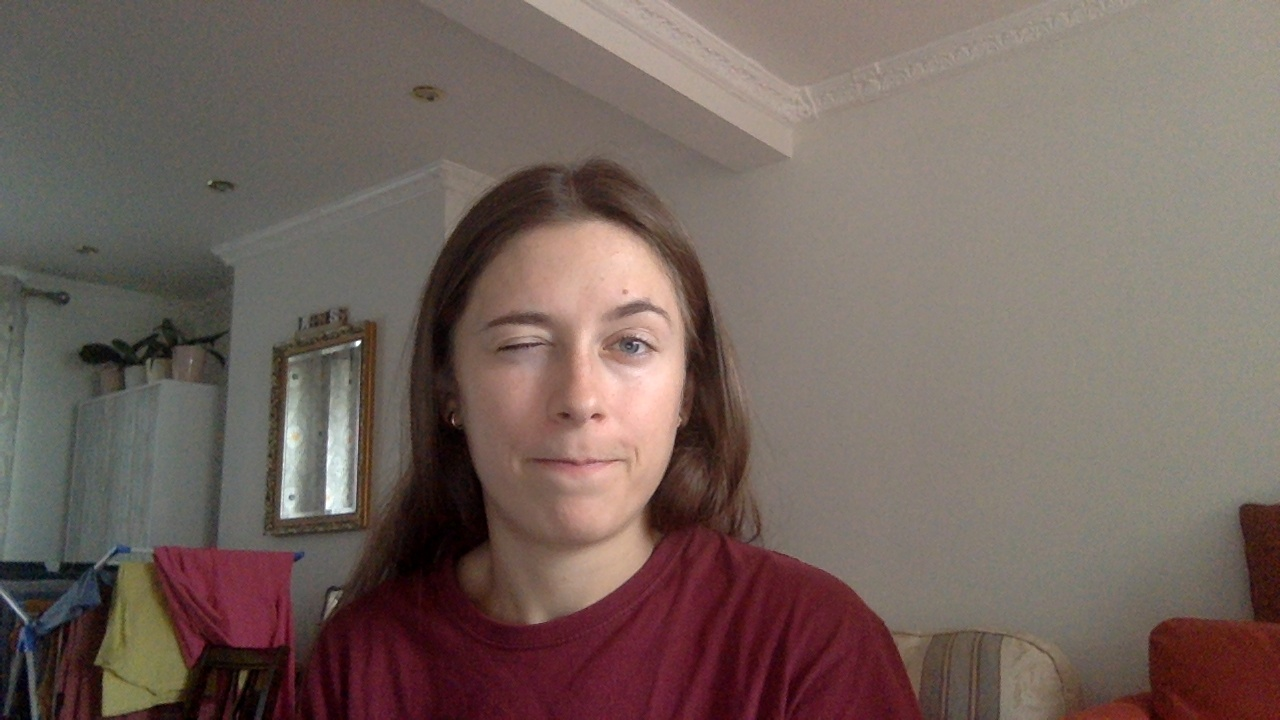wink: (492, 331, 555, 358)
